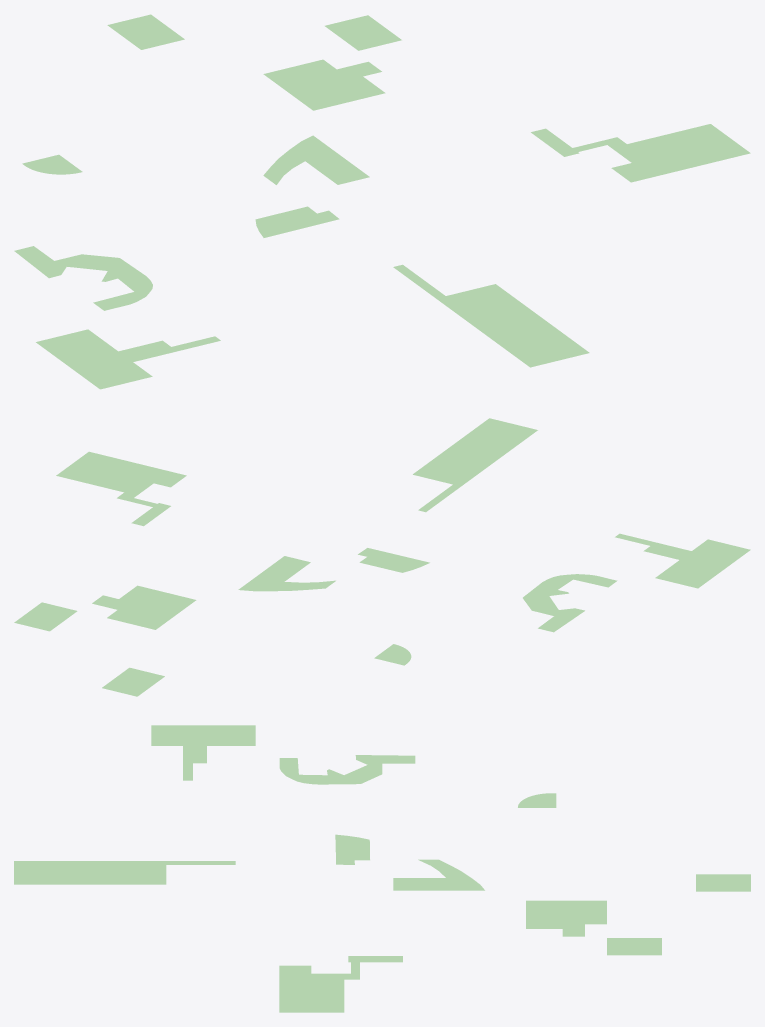
File: Heatmap2.gltf
3 renders of one model, top to bottom at view 1: azimuth 30°, elevation 25°; view 2: azimuth 150°, elevation 25°; view 3: azimuth 270°, elevation 25°, orthographic. The views are drawn at different scales.
Parts seen in each view (by area): view 1: Heatmap2; view 2: Heatmap2; view 3: Heatmap2.
Boxes of the visible parts, left/top/right/bottom form: Heatmap2: left=14, top=14, right=750, bottom=389; Heatmap2: left=14, top=418, right=750, bottom=696; Heatmap2: left=14, top=725, right=750, bottom=1012.
Size of the model in its own units: 118 by 5.08e-07 by 127.
